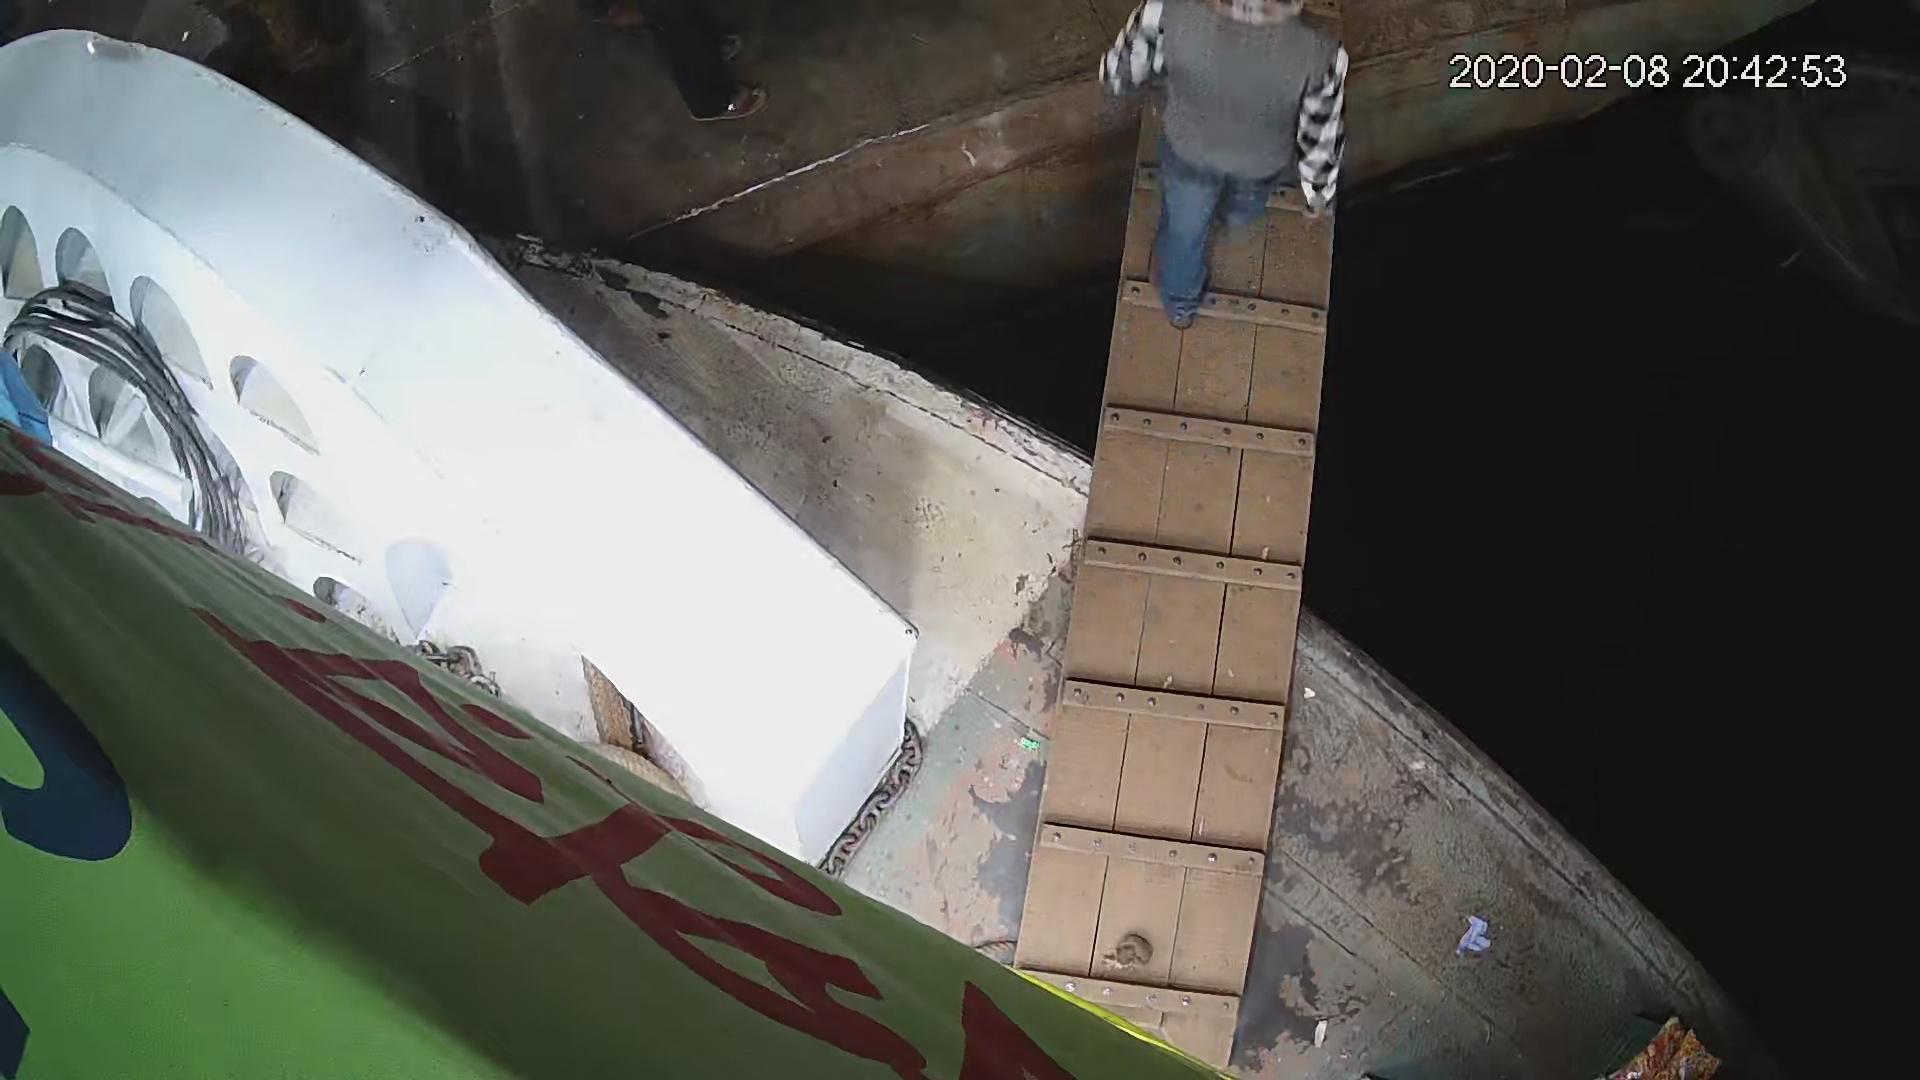person: (1094, 1, 1359, 328)
